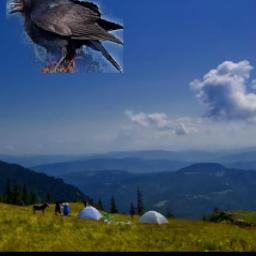Crow: (6, 0, 123, 74)
